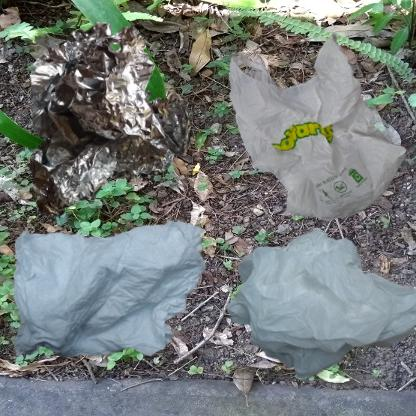aluminio: (10, 10, 207, 229)
bolsa: (213, 10, 416, 269), (213, 213, 416, 416)
papel: (10, 213, 209, 364)
